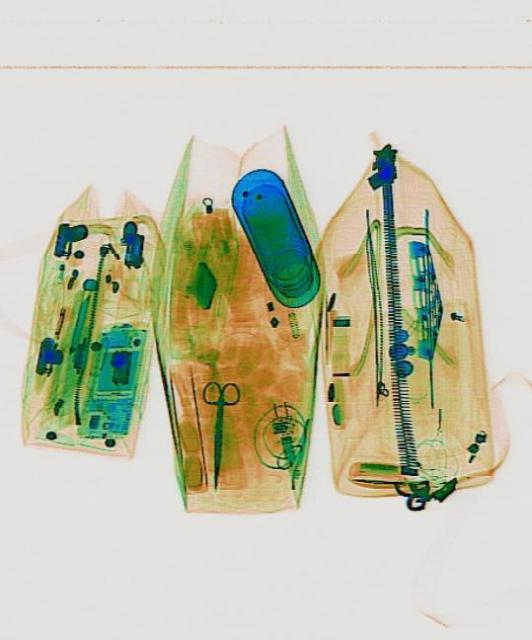Scissors: (194, 378, 239, 492)
